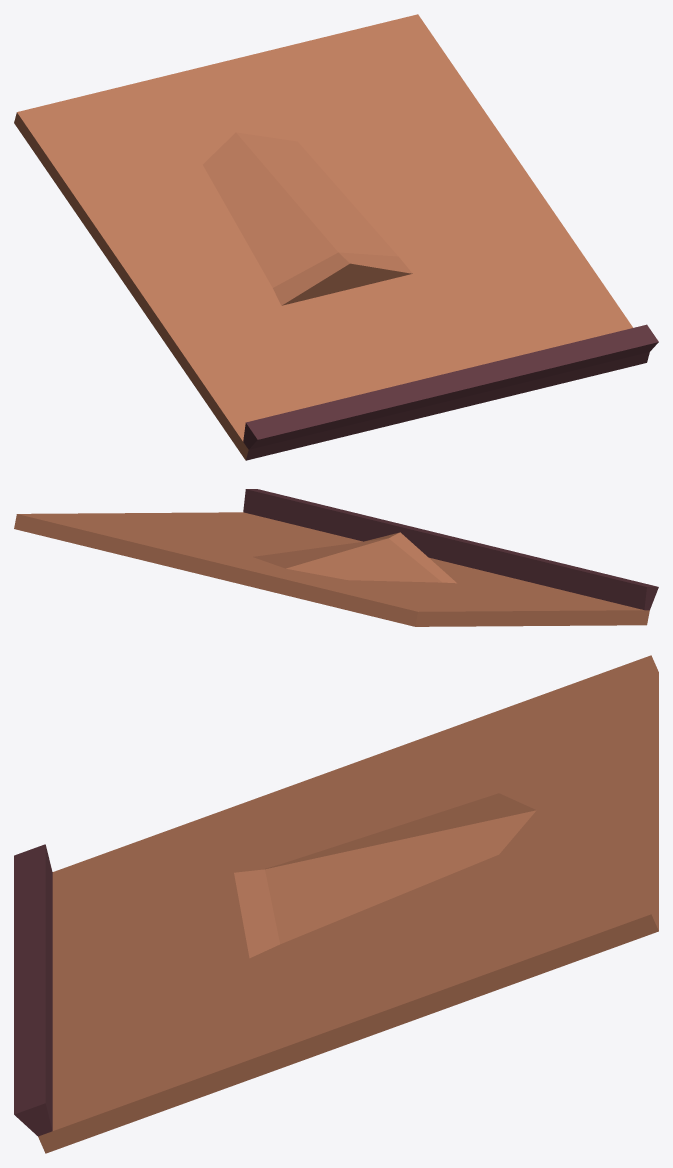
File: empire-roof-small-1m-edge-empire.glb
The picture shows the model from 3 angles, top to bottom: view 1: azimuth 30°, elevation 25°; view 2: azimuth 150°, elevation 25°; view 3: azimuth 270°, elevation 25°; orthographic projection. The views are drawn at different scales.
Visible parts, largest first — view 1: SM_Roof_Small_1m_Edge_Empire; view 2: SM_Roof_Small_1m_Edge_Empire; view 3: SM_Roof_Small_1m_Edge_Empire.
Boxes of the visible parts, left/top/right/bottom form: SM_Roof_Small_1m_Edge_Empire: left=14, top=14, right=658, bottom=460; SM_Roof_Small_1m_Edge_Empire: left=14, top=489, right=658, bottom=626; SM_Roof_Small_1m_Edge_Empire: left=14, top=655, right=658, bottom=1153.
Bounding box in the file's own units: 1.5 × 0.6467 × 1.58.
